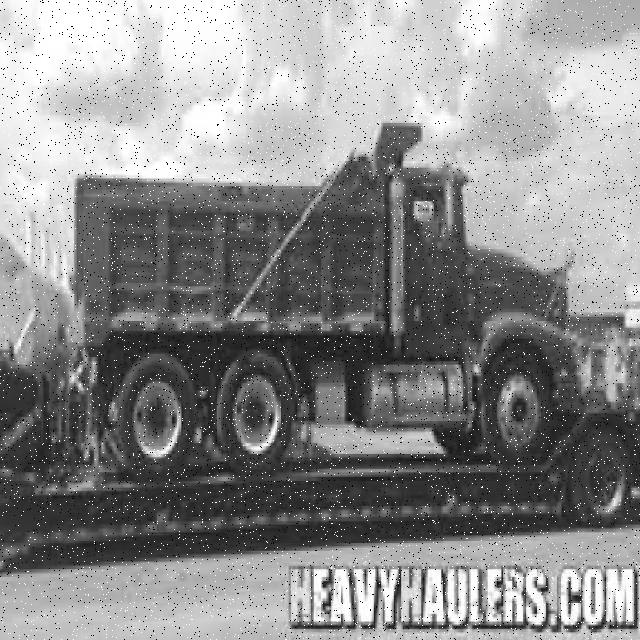Box Truck: (75, 122, 584, 479)
